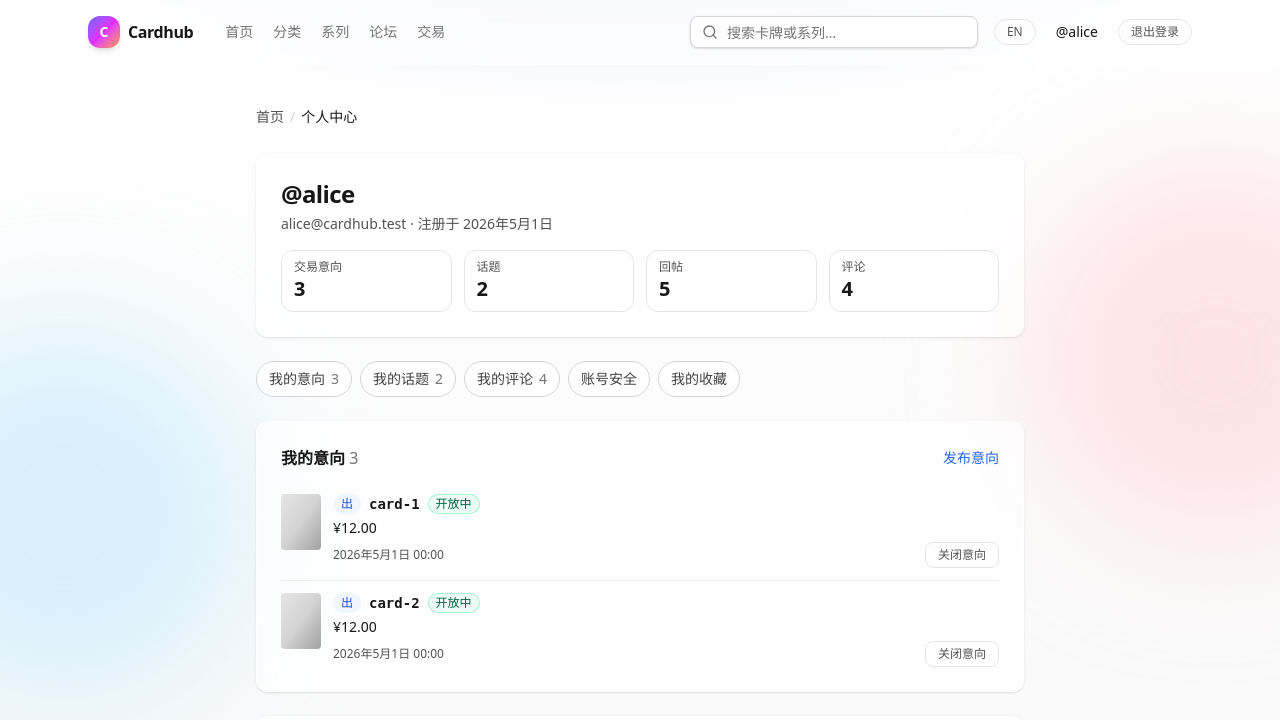
Test case: MePage › keeps loaded listing pages, marks a listing closed, and focuses the success notice
Click the button with aria-label "关闭这条意向" at (962, 555), box [925,542,999,568]
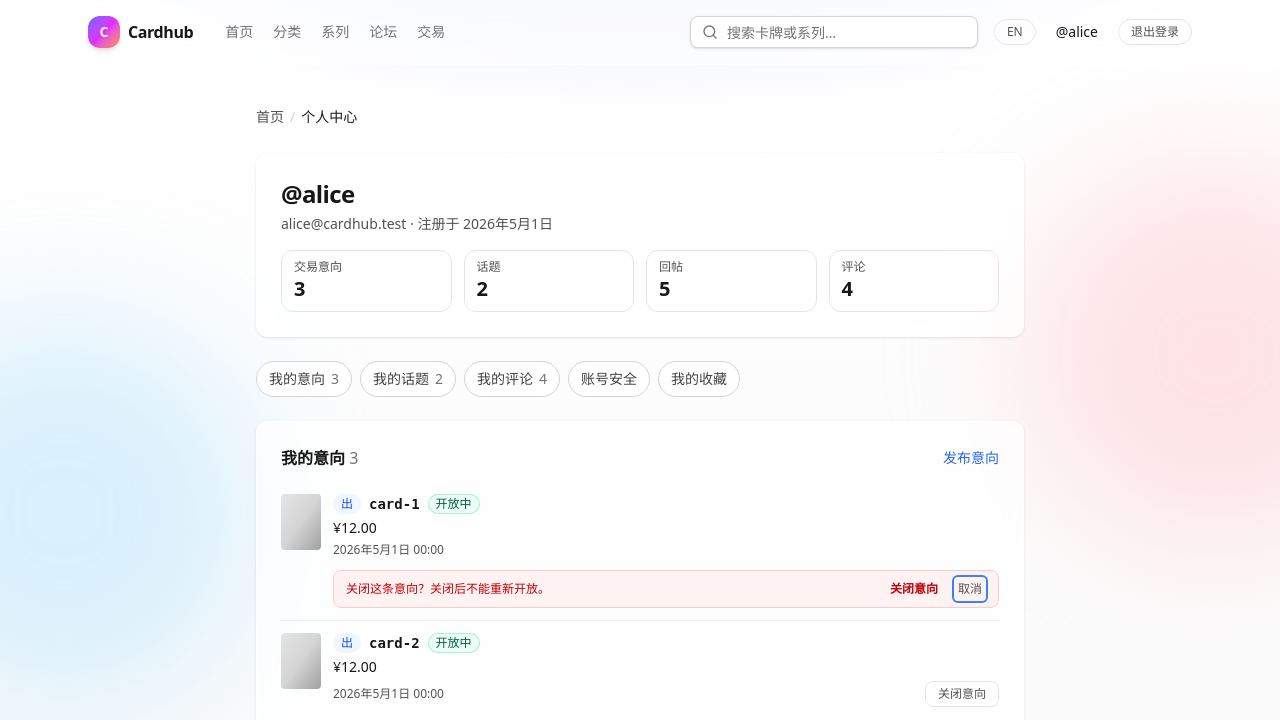
Click the button "关闭意向" in the row of "关闭这条意向？关闭后不能重新开放。" at (914, 589), box [886,577,942,601]
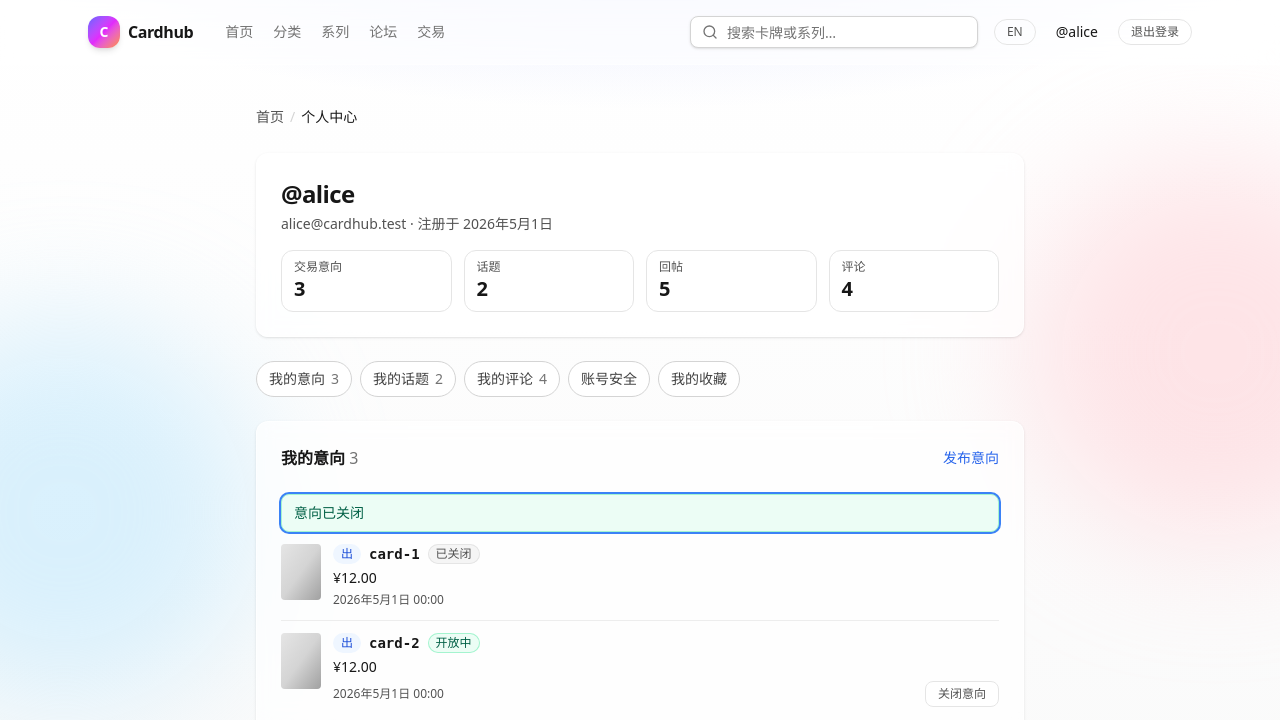
Expected: the link "card-2" is shown, [369,633,420,653]
Expected: the text "已关闭" is shown, [428,544,480,564]
